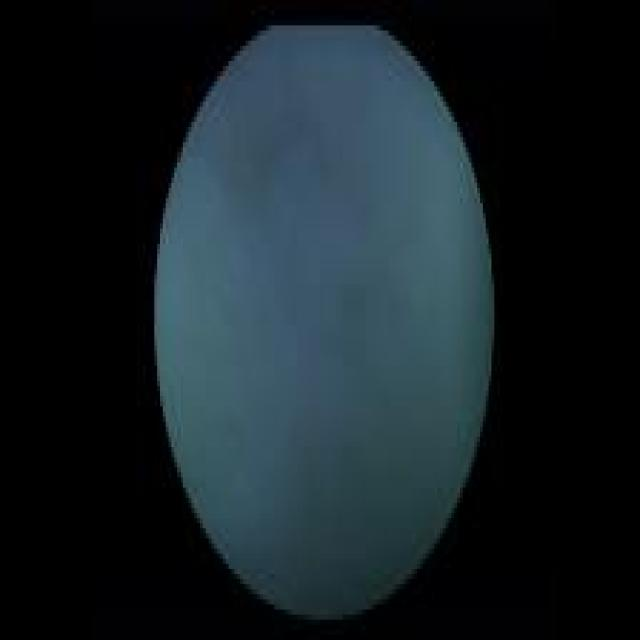blur: (153, 23, 494, 619)
color misalignment: (153, 24, 495, 618)
